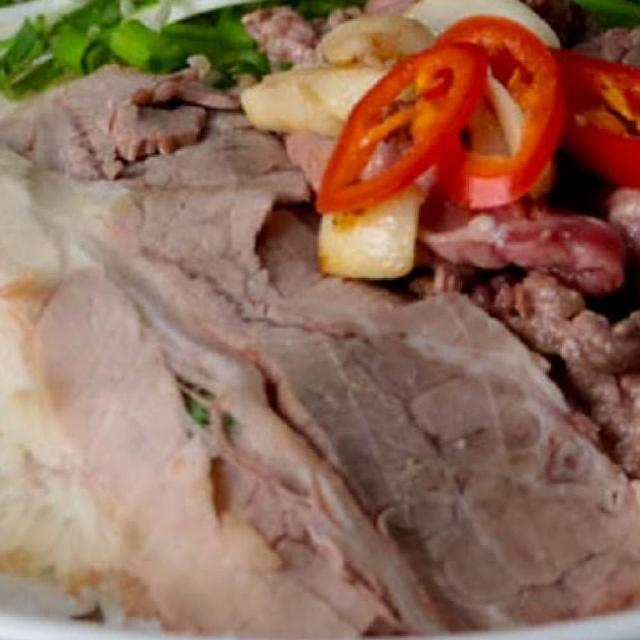pho bo: (0, 0, 640, 640)
thit bo: (0, 56, 640, 640), (228, 0, 580, 284), (377, 181, 640, 391), (560, 335, 640, 556)
